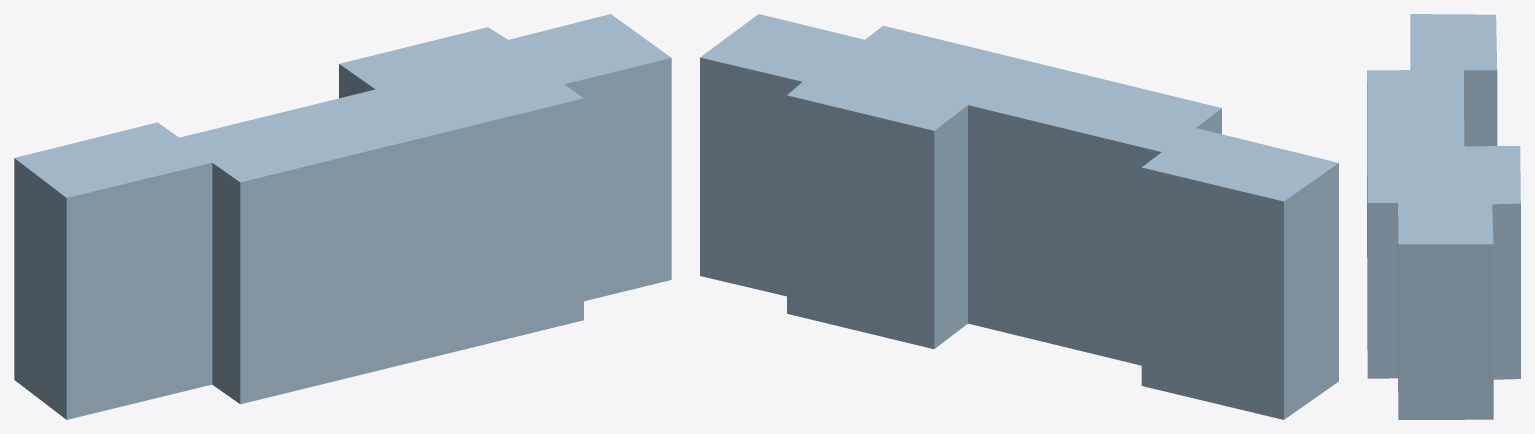
The model's file is osm_way_223859816.glb.
3 renders of one model, left to right at view 1: azimuth 30°, elevation 25°; view 2: azimuth 150°, elevation 25°; view 3: azimuth 270°, elevation 25°, orthographic. The views are drawn at different scales.
Parts seen in each view (by area): view 1: osm_way_223859816; view 2: osm_way_223859816; view 3: osm_way_223859816.
Boxes of the visible parts, <box> form: osm_way_223859816: <box>14,14,671,419</box>; osm_way_223859816: <box>700,14,1338,419</box>; osm_way_223859816: <box>1367,14,1520,419</box>.
Bounding box in the file's own units: 54.07 × 19.2 × 15.24.
